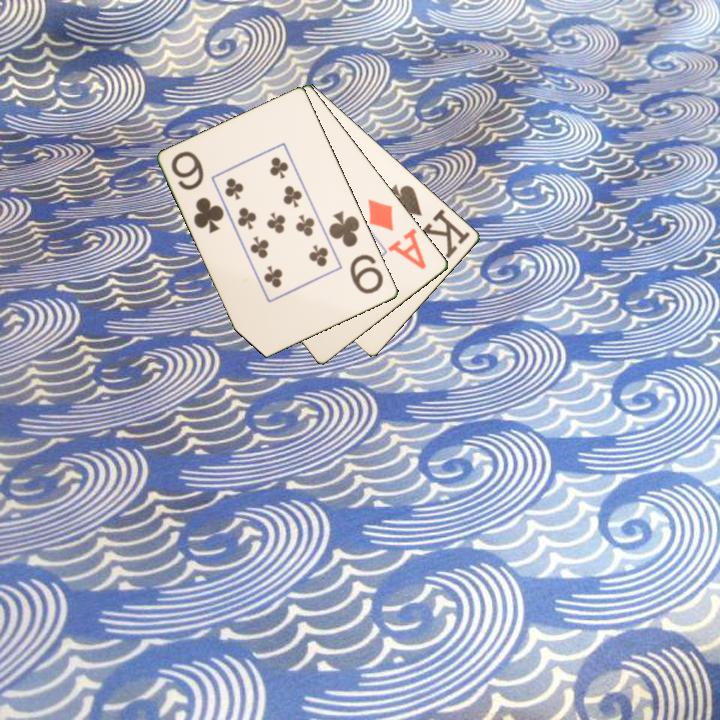9c: (325, 207, 387, 297), (168, 147, 228, 236)
Ad: (364, 195, 430, 273)
Ks: (385, 180, 474, 261)
